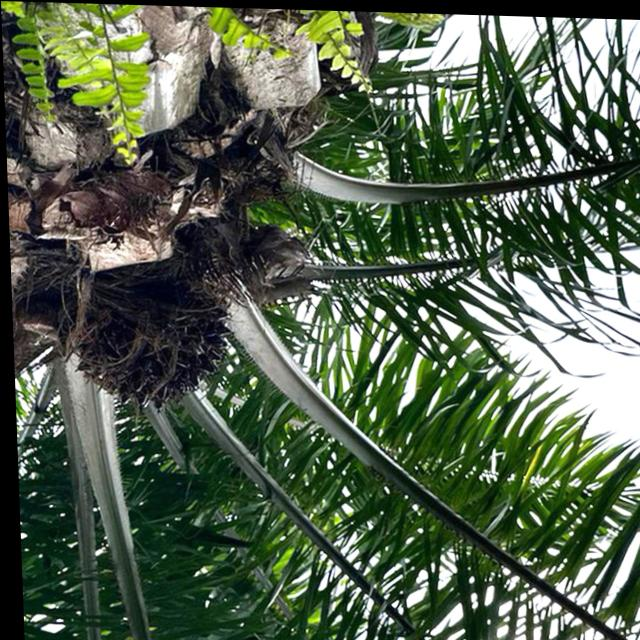ripe: (55, 262, 246, 424)
